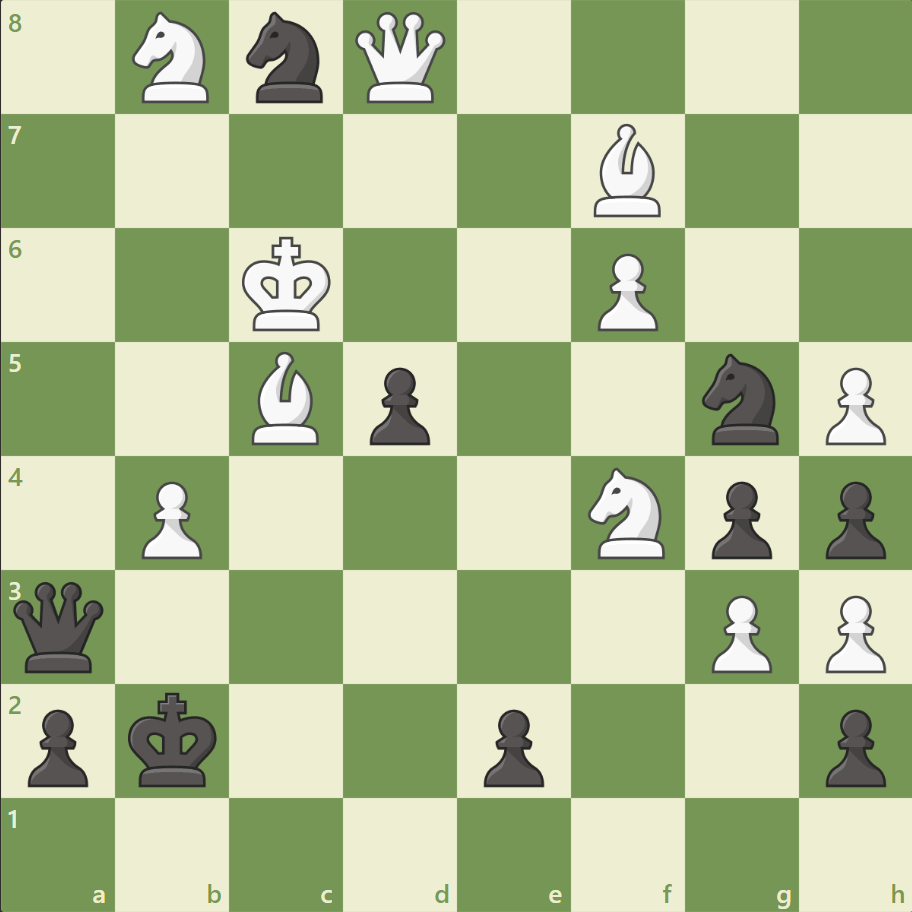B: (585, 120, 669, 222), (244, 347, 328, 449)
K: (238, 231, 338, 339)
N: (124, 7, 222, 110), (579, 461, 676, 564)
P: (133, 473, 208, 564), (701, 586, 776, 677), (588, 246, 662, 337), (815, 359, 889, 450), (815, 586, 889, 677)
Q: (351, 9, 450, 108)
k: (124, 685, 224, 793)
n: (238, 7, 335, 110), (692, 348, 789, 450)
p: (701, 473, 776, 564), (20, 700, 95, 791), (474, 700, 549, 791), (361, 359, 435, 450), (815, 473, 889, 564), (815, 700, 889, 791)
q: (10, 576, 109, 676)
